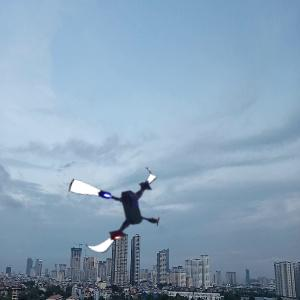drone: (65, 160, 168, 263)
